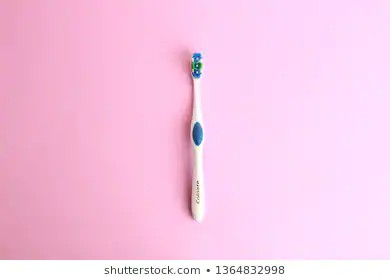toothbrush: (183, 49, 207, 224)
